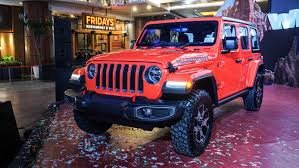mobil: (70, 20, 262, 153)
